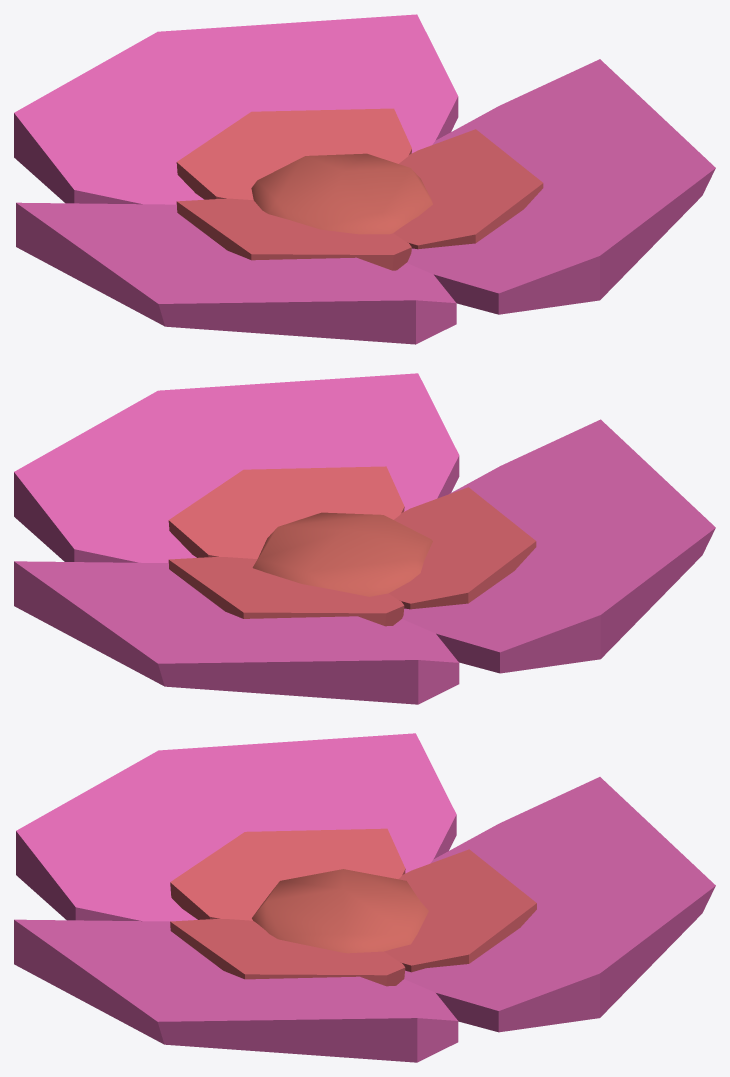
The model's file is Roze.fbx.
3 renders of one model, top to bottom at view 1: azimuth 30°, elevation 25°; view 2: azimuth 150°, elevation 25°; view 3: azimuth 270°, elevation 25°, orthographic.
Parts seen in each view (by area): view 1: Cube.009; view 2: Cube.009; view 3: Cube.009.
Part boxes in pixels (box(x1,y1,x2,y2)): Cube.009: box(14, 14, 715, 344); Cube.009: box(14, 373, 715, 704); Cube.009: box(14, 733, 715, 1062).
Size of the model in its own units: 256 by 44.18 by 266.
